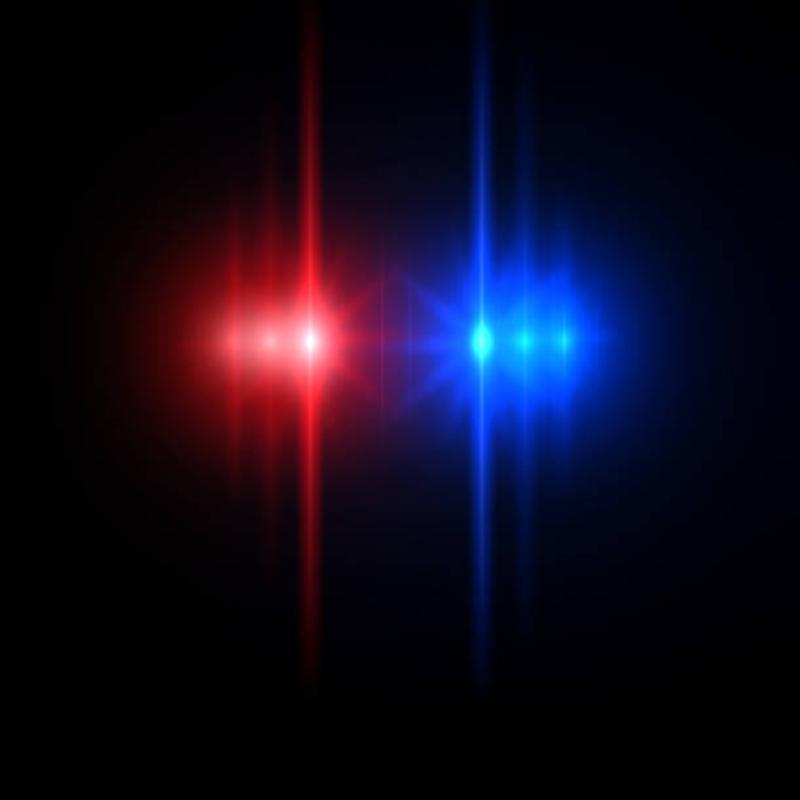AmbulanceSiren: (206, 249, 603, 412)
